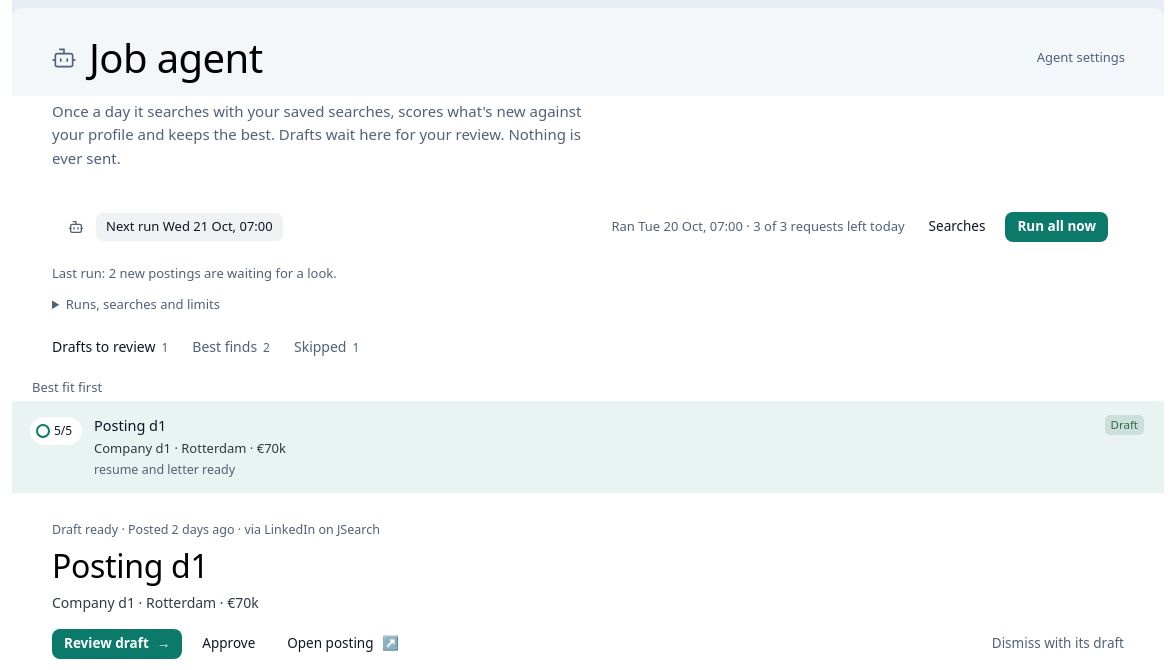
Scenario: AgentScreen (E16-6) › runs now on request
Click the button "Run all now".
click(1057, 227)  # box [1005,212,1108,242]
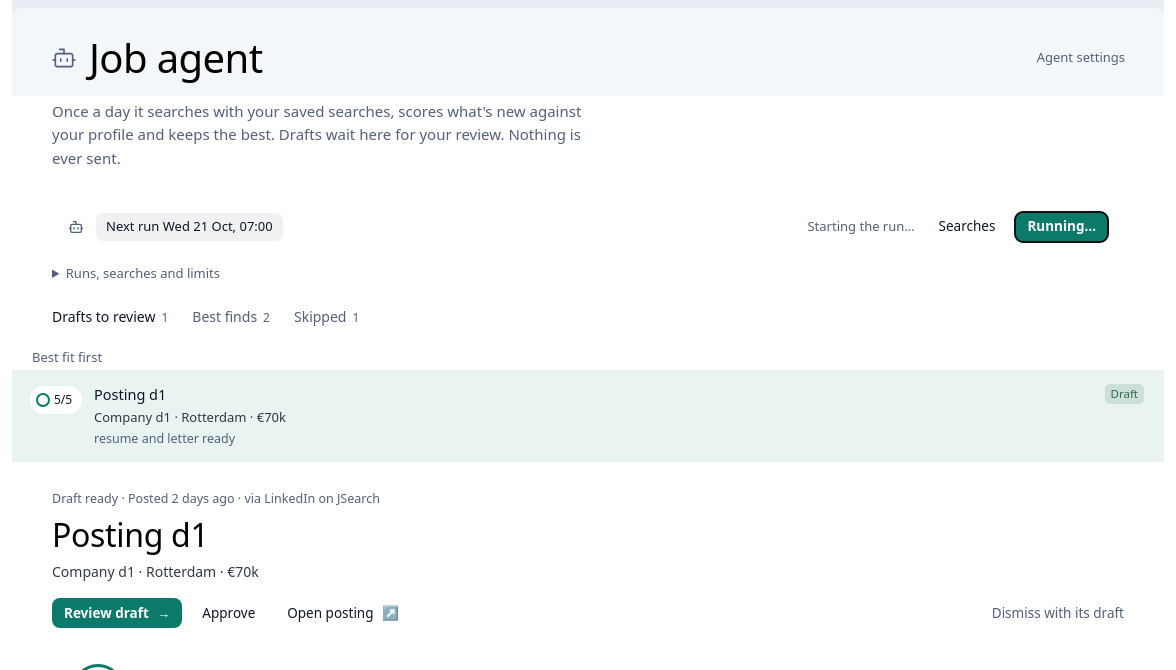
Now the button "Running…" is shown, box [1015,212,1108,242]
Now the message reads "Starting the run…", box [808,217,915,235]
